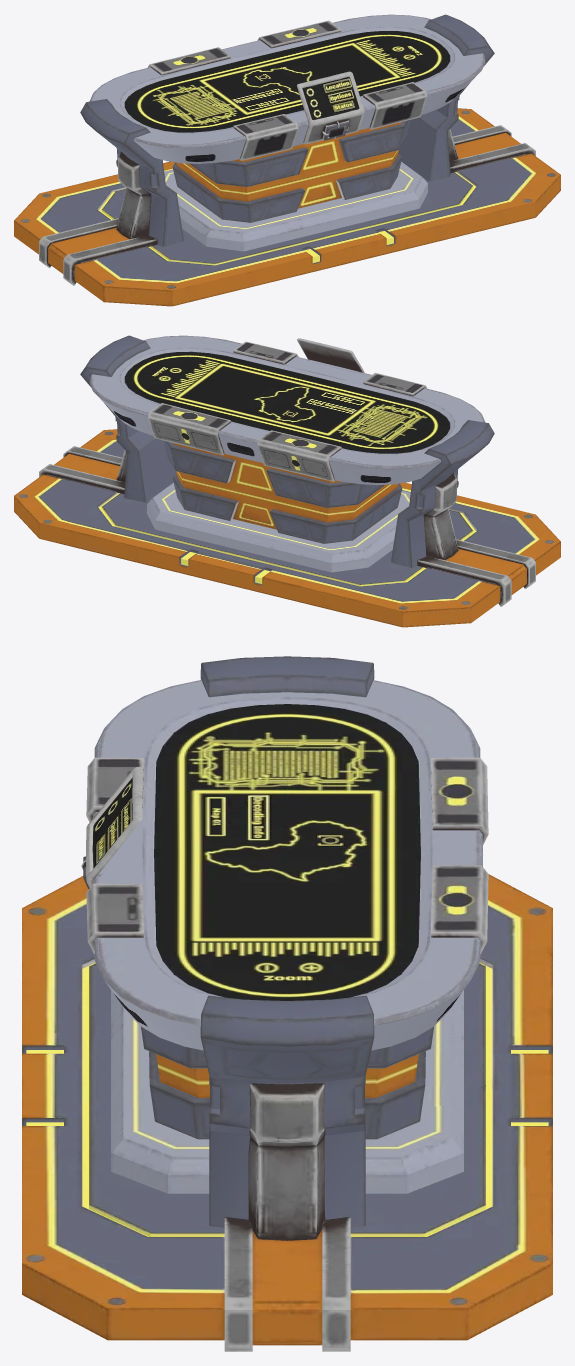
Rendered from sci_fi_computer_table-transformed.glb.
The picture shows the model from 3 angles, top to bottom: view 1: azimuth 30°, elevation 25°; view 2: azimuth 150°, elevation 25°; view 3: azimuth 270°, elevation 25°; orthographic projection. The views are drawn at different scales.
Visible parts, largest first — view 1: defaultMaterial; view 2: defaultMaterial; view 3: defaultMaterial.
Part boxes in pixels (x1,y1,x2,y2): defaultMaterial: (14,14,560,306); defaultMaterial: (14,335,560,627); defaultMaterial: (22,656,552,1351).
Size of the model in its own units: 2 by 0.6886 by 0.9879.
Materials: 1 (1 with a texture image).
